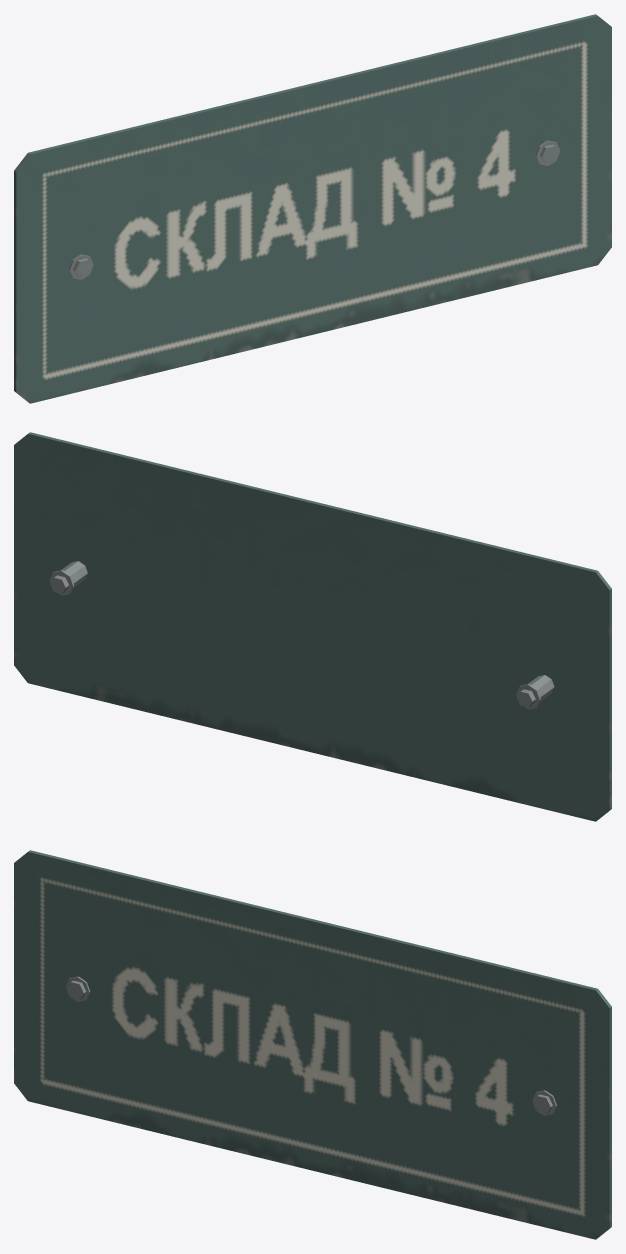
File: cyrillic_signs_nameplate.glb
The picture shows the model from 3 angles, top to bottom: view 1: azimuth 30°, elevation 25°; view 2: azimuth 150°, elevation 25°; view 3: azimuth 330°, elevation 25°; orthographic projection.
Parts seen in each view (by area): view 1: SignBodyNameplate; view 2: SignBodyNameplate; view 3: SignBodyNameplate.
Part boxes in pixels (x1,y1,x2,y2): SignBodyNameplate: [14, 14, 611, 403]; SignBodyNameplate: [14, 432, 611, 821]; SignBodyNameplate: [14, 850, 611, 1239].
Bounding box in the file's own units: 0.6 × 0.24 × 0.0458.
Materials: 1 (1 with a texture image).
